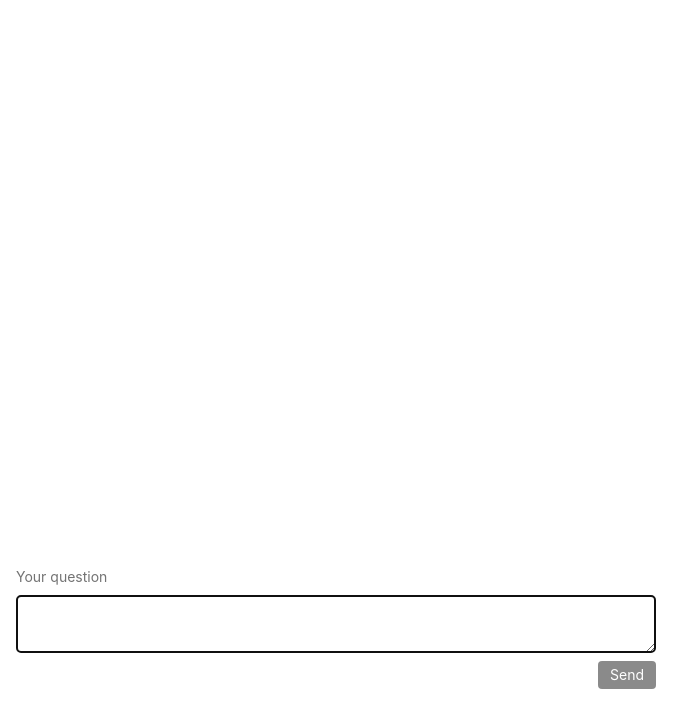
it: Chat (jsdom) › renders tokens progressively, disables Send in flight, then replaces with done content
Later steps or results of the test are not shown.
Type "q" into the text box labelled "Your question" at (336, 624), box [16,595,656,653]
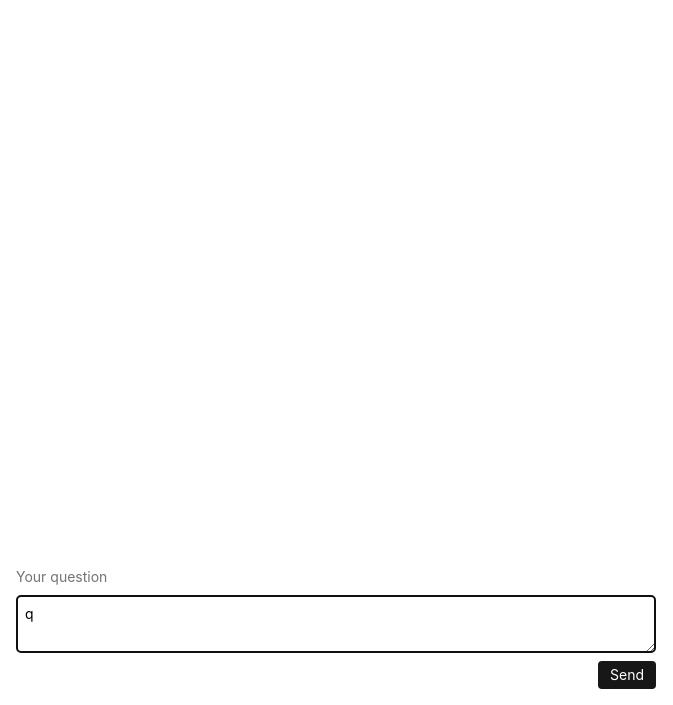
Click the button "Send" at (627, 675), box [598,661,656,689]
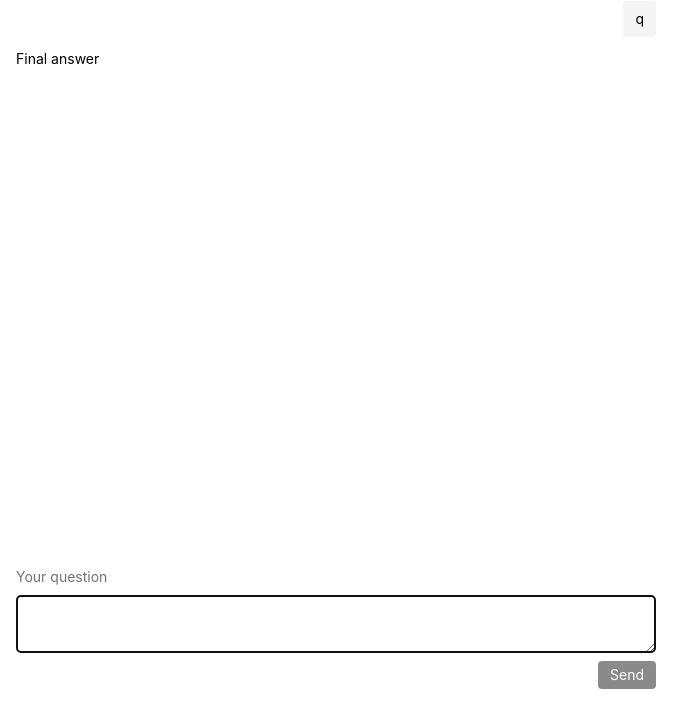
Expected: the text box labelled "Your question" is enabled, [16,595,656,653]
Expected: the button "Send" is disabled, [598,661,656,689]
Expected: the text "Final answer" is shown, [16,49,99,69]
